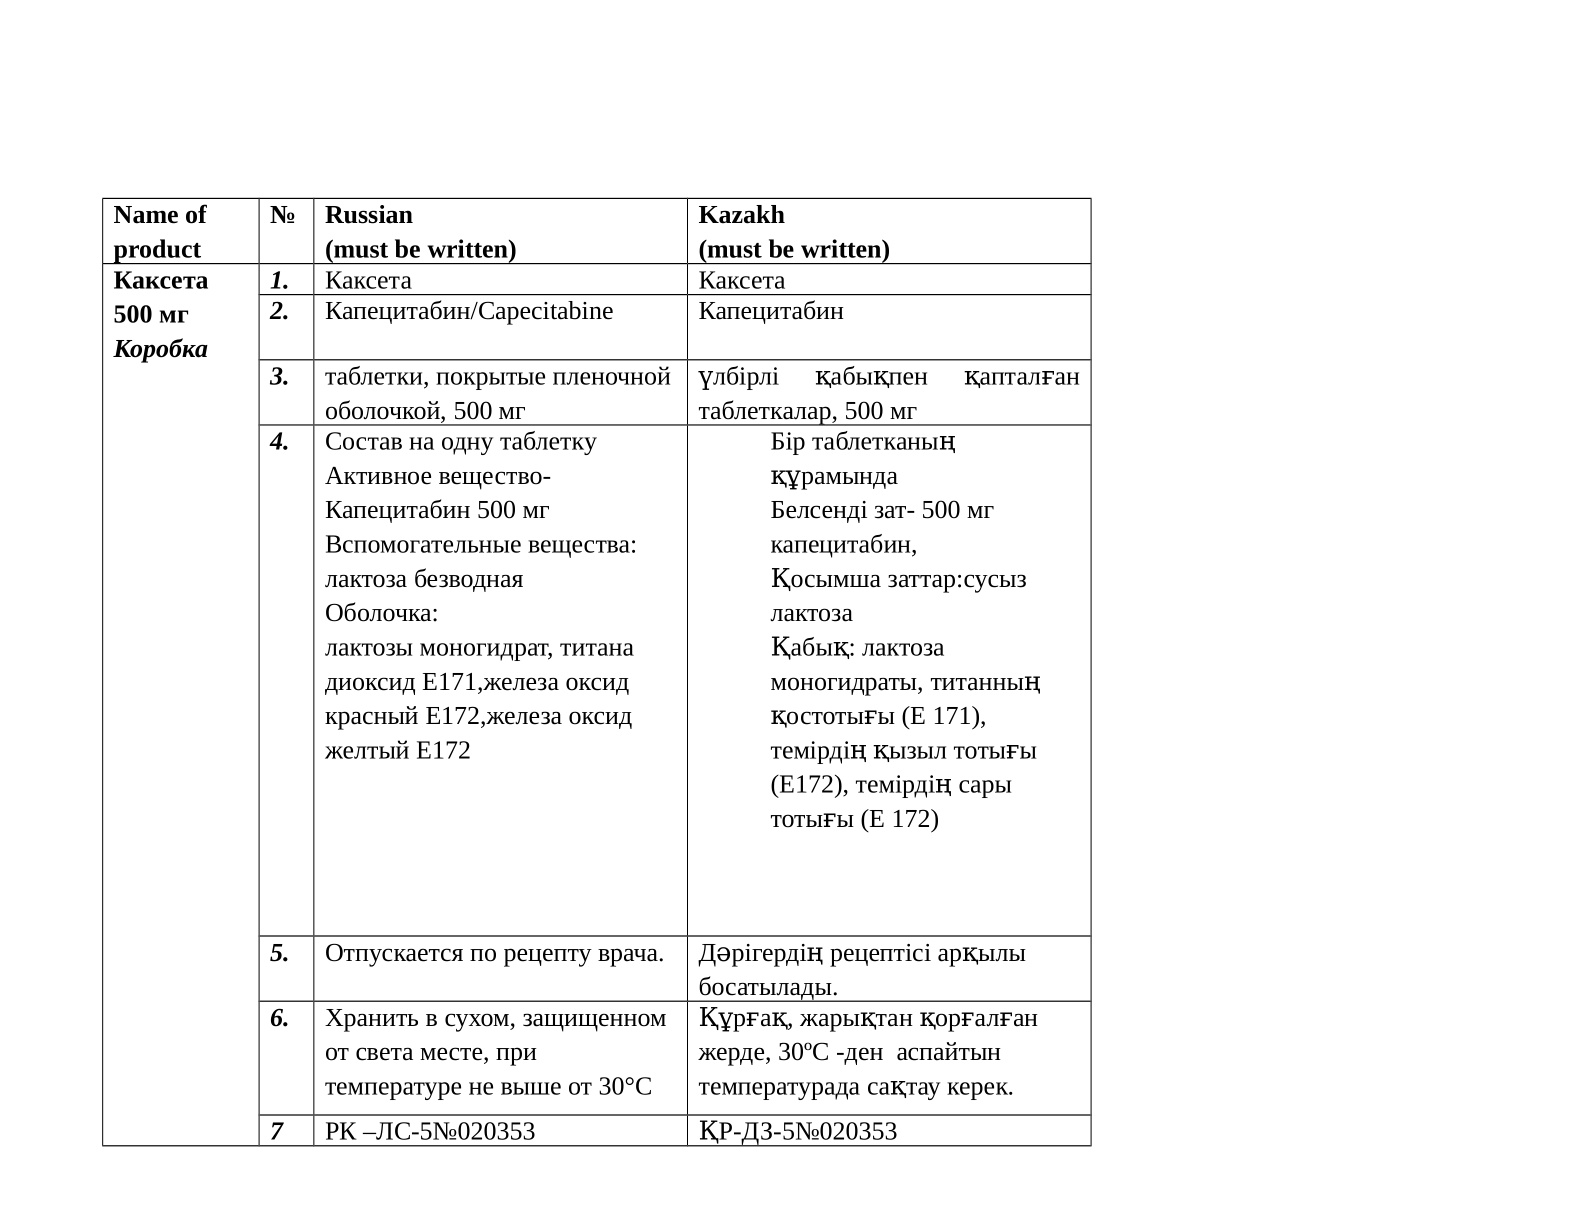merged_cells: (102, 197, 1092, 1147)
